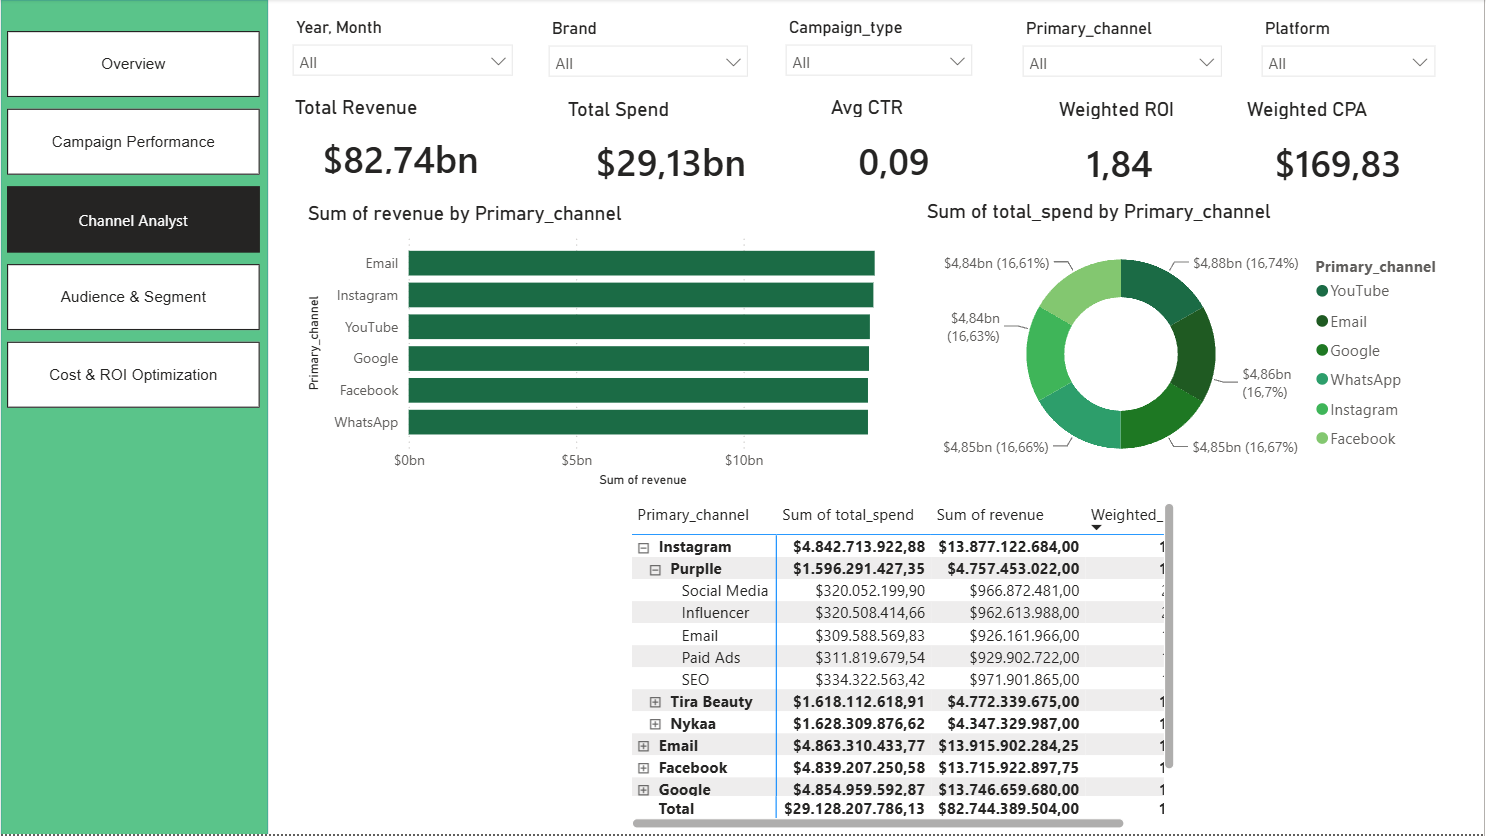

The page's visual inventory and layout, read from the dashboard file:
{"tool":"powerbi","page":{"name":"Channel Analyst ","canvas":[1280,720],"ordinal":2},"visuals":[{"type":"cardVisual","title":"Total Revenue","fields":{"Data":["Sum(FactMarketing.revenue)"]},"box":[249.3,82.8,196.7,85.4],"z":0},{"type":"cardVisual","title":"Total Spend","fields":{"Data":["Sum(FactMarketing.total_spend)"]},"box":[484.7,84.5,191.5,88.8],"z":1000},{"type":"cardVisual","title":"Avg CTR","fields":{"Data":["Avg(FactMarketing.CTR)"]},"box":[711.6,82.8,160.4,89.7],"z":2000},{"type":"cardVisual","title":"Weighted ROI","fields":{"Data":["FactMarketing.Weight_ROI"]},"box":[908.2,84.5,118.2,89.7],"z":3000},{"type":"clusteredBarChart","fields":{"Category":["DimPrimaryChannel.Primary_channel"],"Y":["Sum(FactMarketing.revenue)"]},"box":[260.5,174.2,518.4,251],"z":4000},{"type":"donutChart","fields":{"Y":["Sum(FactMarketing.total_spend)"],"Category":["DimPrimaryChannel.Primary_channel"]},"box":[794.4,172.5,464,248.4],"z":5000},{"type":"pivotTable","fields":{"Rows":["DimPrimaryChannel.primary_channel","DimBrand.brand","DimCampaignType.campaign_type"],"Values":["Sum(FactMarketing.total_spend)","Sum(FactMarketing.revenue)","FactMarketing.Weight_ROI"]},"box":[539.9,429.5,477.8,290.7],"z":6000},{"type":"shape","box":[0,0,232,727.2],"z":7000},{"type":"slicer","fields":{"Values":["DimBrand.brand"]},"box":[463.2,12.1,192.3,72.5],"z":8000},{"type":"slicer","fields":{"Values":["DimCampaignType.campaign_type"]},"box":[667.8,11.5,181.1,72.4],"z":9000},{"type":"slicer","fields":{"Values":["DimPrimaryChannel.primary_channel"]},"box":[871.9,12.4,191.7,72.4],"z":10000},{"type":"slicer","fields":{"Values":["FactMarketing.Platform "]},"box":[1078.6,12.4,169.6,72.4],"z":11000},{"type":"slicer","fields":{"Values":["DimDate.campaign_date.Variation.Date Hierarchy.Year","DimDate.campaign_date.Variation.Date Hierarchy.Month"]},"box":[242.4,11.2,210.5,71.6],"z":12000},{"type":"cardVisual","title":"Weighted CPA","fields":{"Data":["FactMarketing.WeightedCPA"]},"box":[1070.4,84.5,171.6,89.7],"z":13000},{"type":"pageNavigator","box":[6,27.6,218.2,325.2],"z":14000}]}

Visuals, with their boxes on the page's 1280x720 design canvas (x1, y1, x2, y2). These are canvas units, not pixel positions in the 1486x836 screenshot, which may show the page scaled, cropped or inside an application window:
"Total Revenue" cardVisual: box=[249, 83, 446, 168]
"Total Spend" cardVisual: box=[485, 84, 676, 173]
"Avg CTR" cardVisual: box=[712, 83, 872, 172]
"Weighted ROI" cardVisual: box=[908, 84, 1026, 174]
clusteredBarChart - DimPrimaryChannel.Primary_channel x Sum(FactMarketing.revenue): box=[260, 174, 779, 425]
donutChart - Sum(FactMarketing.total_spend) x DimPrimaryChannel.Primary_channel: box=[794, 172, 1258, 421]
pivotTable - DimPrimaryChannel.primary_channel x DimBrand.brand: box=[540, 430, 1018, 720]
shape: box=[0, 0, 232, 727]
slicer - DimBrand.brand: box=[463, 12, 656, 85]
slicer - DimCampaignType.campaign_type: box=[668, 12, 849, 84]
slicer - DimPrimaryChannel.primary_channel: box=[872, 12, 1064, 85]
slicer - FactMarketing.Platform : box=[1079, 12, 1248, 85]
slicer - DimDate.campaign_date.Variation.Date Hierarchy.Year x DimDate.campaign_date.Variation.Date Hierarchy.Month: box=[242, 11, 453, 83]
"Weighted CPA" cardVisual: box=[1070, 84, 1242, 174]
pageNavigator: box=[6, 28, 224, 353]
